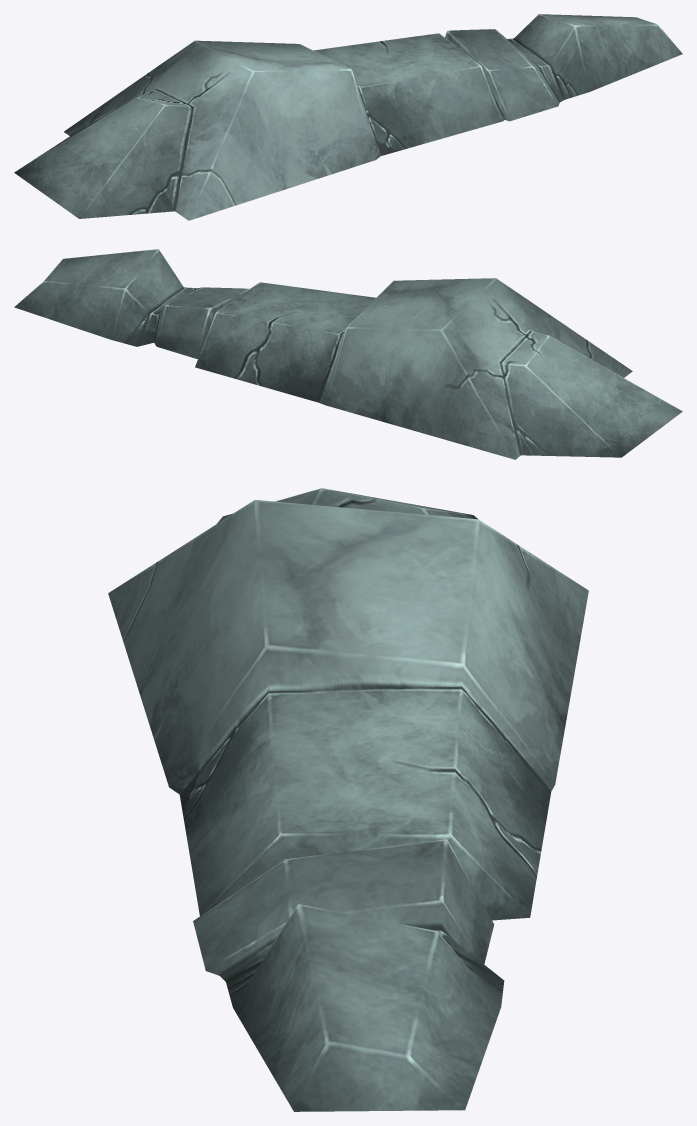
The model's file is Rock 4.fbx.
The picture shows the model from 3 angles, top to bottom: view 1: azimuth 30°, elevation 25°; view 2: azimuth 150°, elevation 25°; view 3: azimuth 270°, elevation 25°; orthographic projection. The views are drawn at different scales.
Visible parts, largest first — view 1: pPlane5; view 2: pPlane5; view 3: pPlane5.
Boxes of the visible parts, <box> form: pPlane5: <box>14,14,682,220</box>; pPlane5: <box>14,249,682,459</box>; pPlane5: <box>108,488,588,1111</box>.
Bounding box in the file's own units: 15.16 × 2.26 × 5.16.
